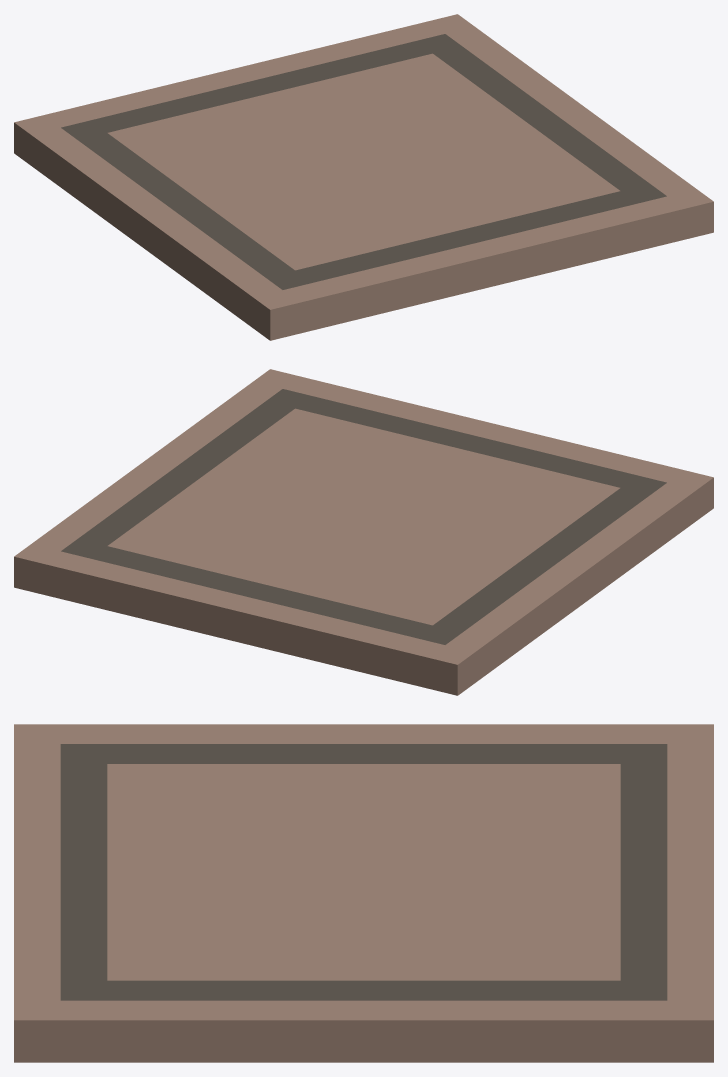
File: dungeon_a_b_ground_b_a.obj
The picture shows the model from 3 angles, top to bottom: view 1: azimuth 30°, elevation 25°; view 2: azimuth 150°, elevation 25°; view 3: azimuth 270°, elevation 25°; orthographic projection. The views are drawn at different scales.
Size of the model in its own units: 1.5 by 0.1 by 1.5.
1 material, 1 textured.
